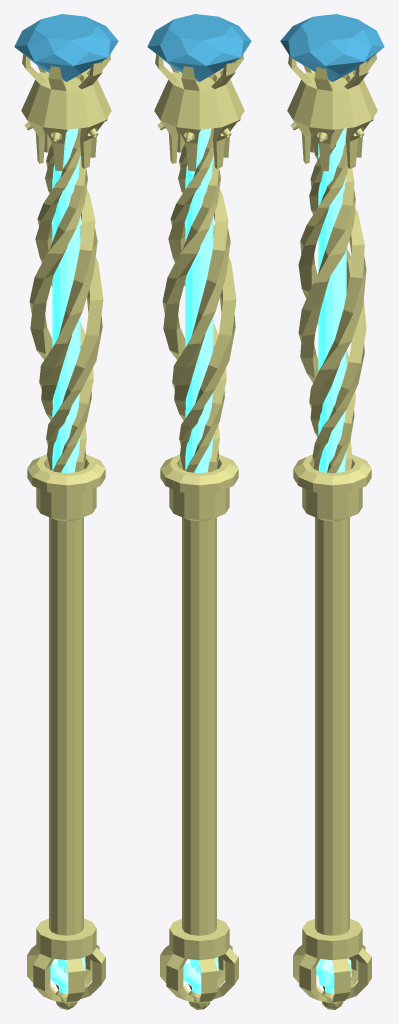
File: sopa_tamamlanms_hali.fbx
3 views of the same model, side by side, from view 1: azimuth 30°, elevation 25°; view 2: azimuth 210°, elevation 25°; view 3: azimuth 330°, elevation 25° (orthographic).
Visible parts, largest first — view 1: Cylinder.001, Gem; view 2: Cylinder.001, Gem; view 3: Cylinder.001, Gem.
Boxes of the visible parts, bbox=[...] form: Cylinder.001: bbox=[21, 54, 111, 1009]; Gem: bbox=[14, 14, 118, 81]; Cylinder.001: bbox=[154, 54, 244, 1009]; Gem: bbox=[147, 14, 251, 81]; Cylinder.001: bbox=[287, 54, 377, 1009]; Gem: bbox=[280, 14, 384, 81].
Bounding box in the file's own units: 61.86 × 688 × 61.86.
